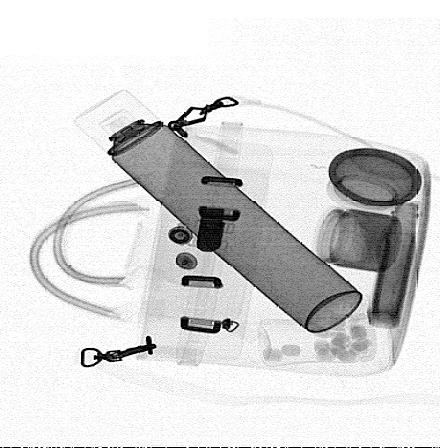Sprayer: (74, 89, 362, 333)
